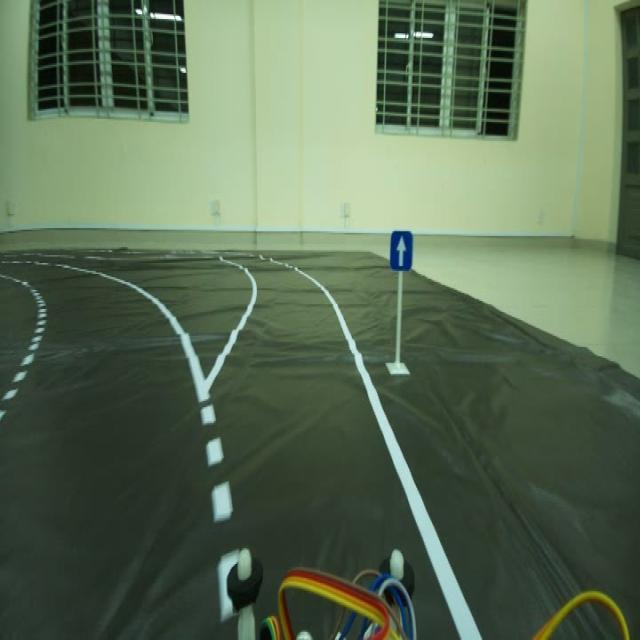onewayroad: (388, 225, 416, 274)
